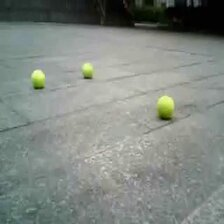tennis: (156, 95, 176, 118), (30, 69, 44, 87), (81, 63, 94, 76)
